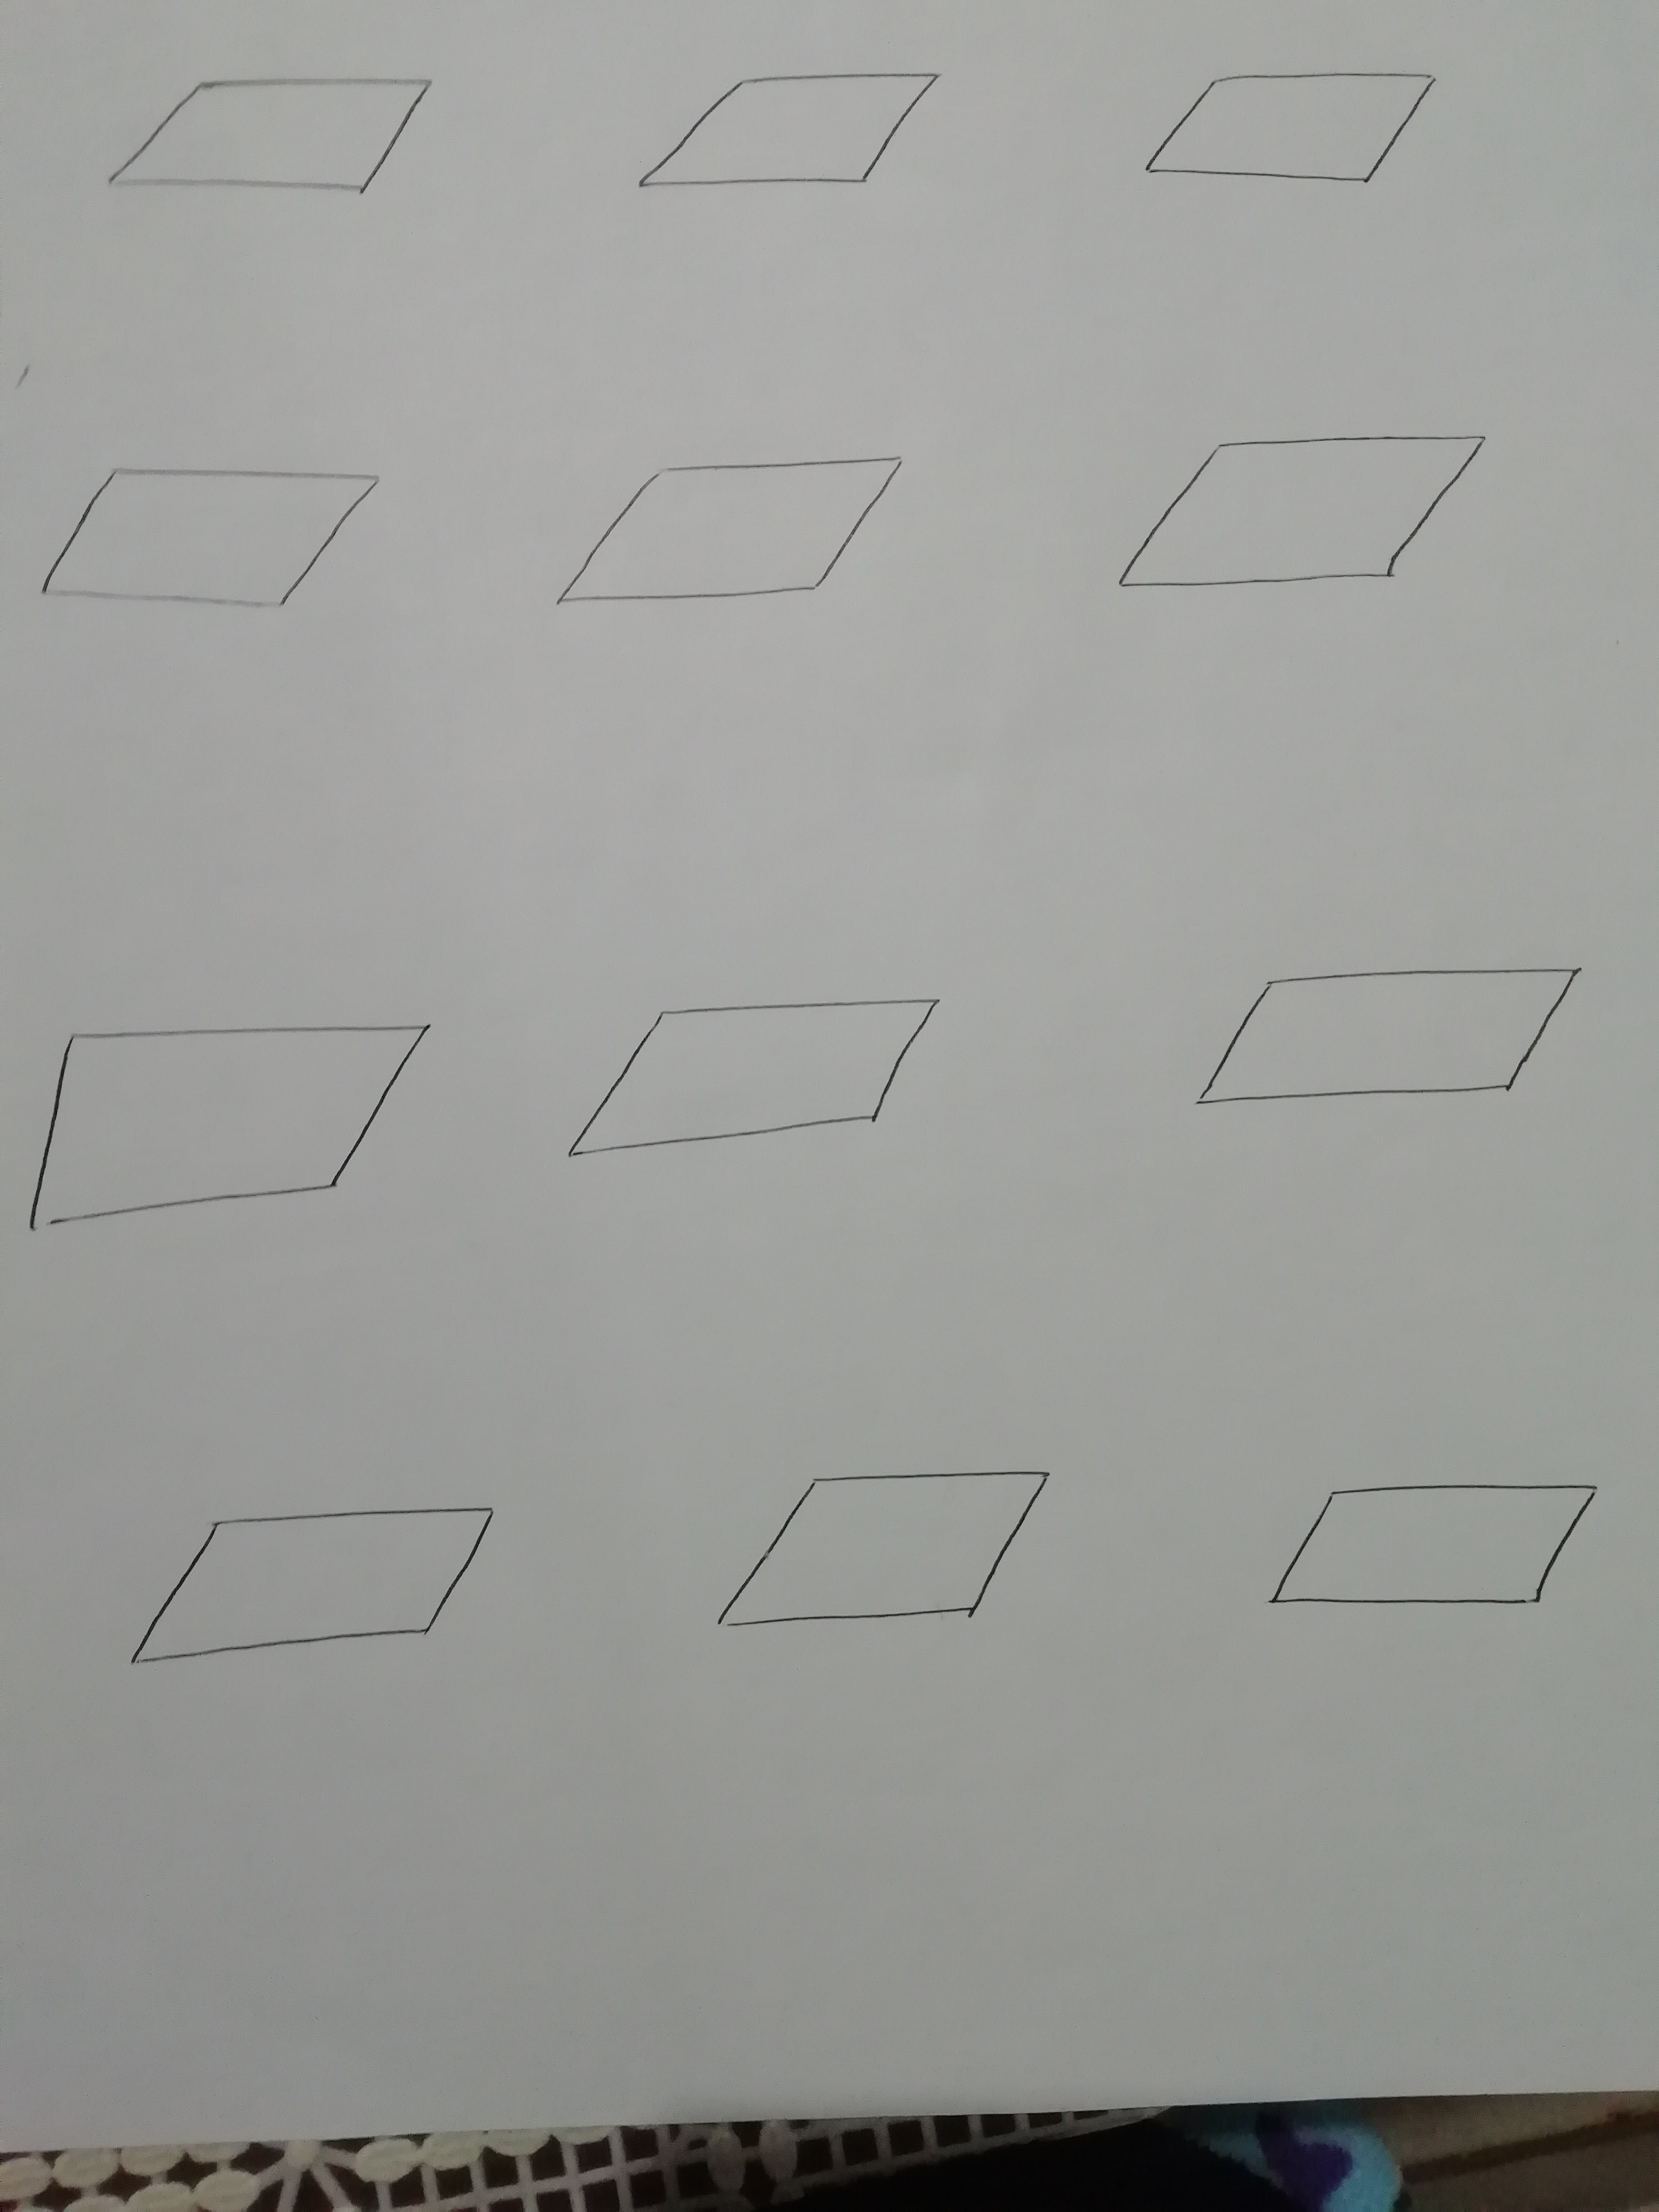scan: (12, 1003, 448, 1280), (1222, 1439, 1643, 1698), (66, 1486, 530, 1712), (502, 415, 938, 651), (530, 970, 962, 1205), (16, 425, 423, 672), (1171, 932, 1622, 1155), (687, 1435, 1091, 1681), (1079, 418, 1527, 631), (44, 38, 465, 256), (601, 38, 983, 251), (1122, 49, 1497, 233)
